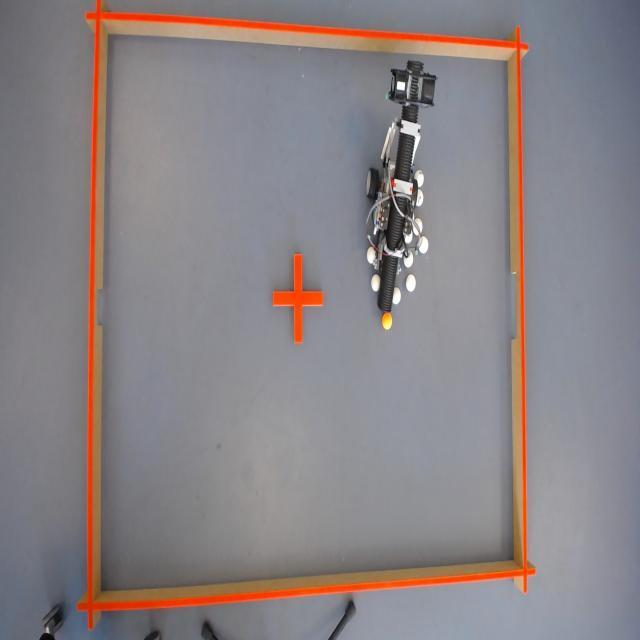orange: (381, 307, 394, 330)
robot: (364, 55, 433, 316)
white: (368, 272, 381, 292), (406, 271, 416, 292), (416, 233, 426, 253), (392, 288, 402, 306)
